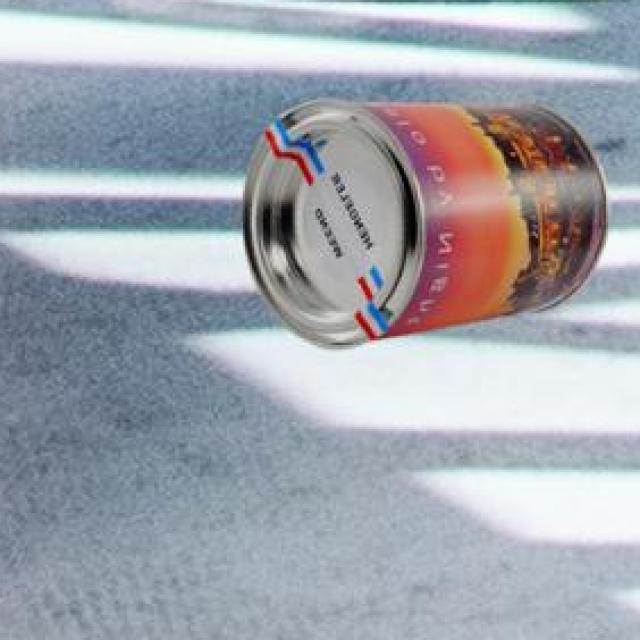logam: (246, 96, 612, 346)
